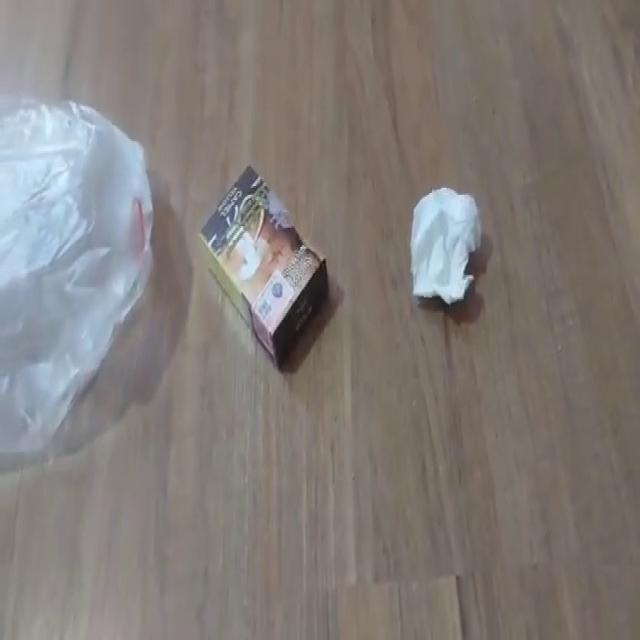Anorganik: (1, 85, 155, 463)
Organik: (198, 160, 333, 376), (407, 181, 485, 313)
